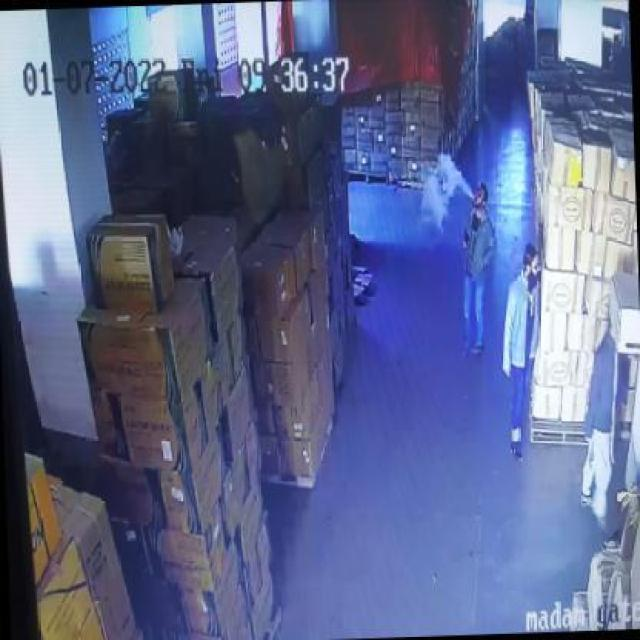fire: (422, 144, 472, 233)
